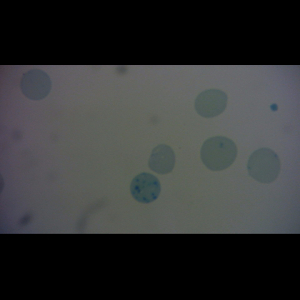aggregate reticulocyte: (129, 172, 162, 204)
erythrocyte: (193, 87, 229, 119), (147, 144, 177, 175)
punctate reticulocyte: (199, 135, 239, 172), (245, 146, 282, 184), (20, 69, 53, 101)
